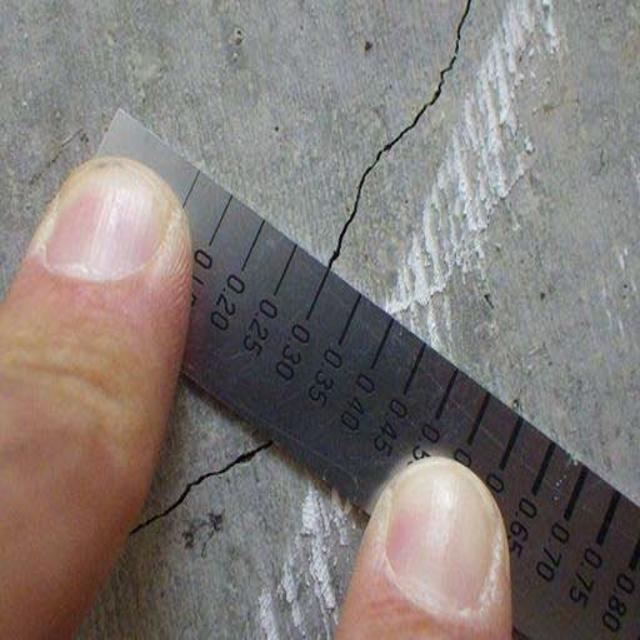crack: (313, 4, 478, 263), (128, 442, 286, 532)
